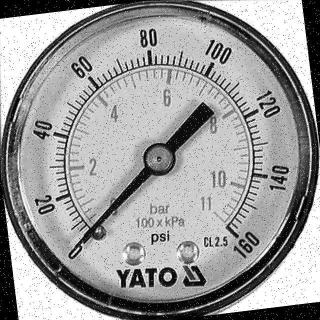gauge: (0, 1, 320, 320), (210, 213, 266, 267), (53, 214, 104, 266), (140, 140, 178, 177), (69, 233, 88, 254)
